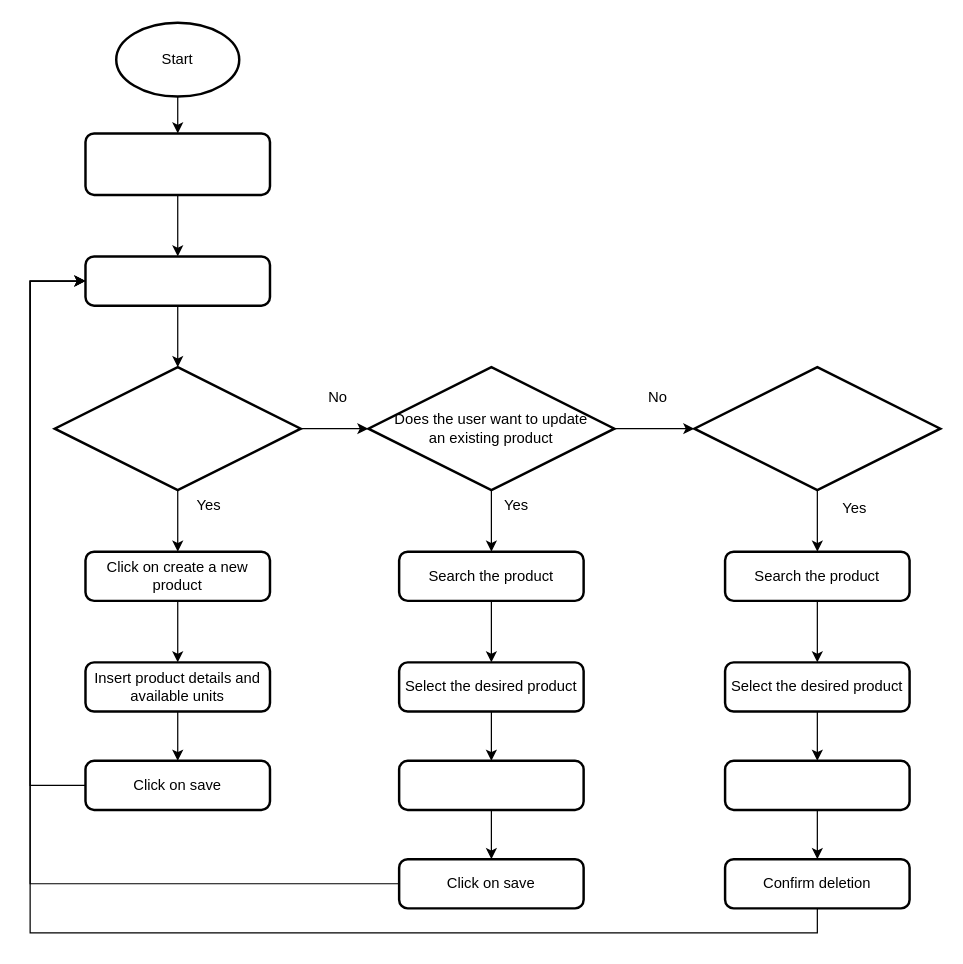
Some shapes in this 963 by 964 pixel diagram are drawn without their labels. The shapes that lost their labels are listed below. From the top down, each one's centre as x and y in pixels, then its label:
At (177,164): "Log in to manager/admin account".
At (177,280): "Go to inventory management section".
At (177,428): "Does the user want to add a new product".
At (816,428): "Does the user want to delete an existing product".
At (490,785): "Edit product details".
At (816,785): "Click on delete".
